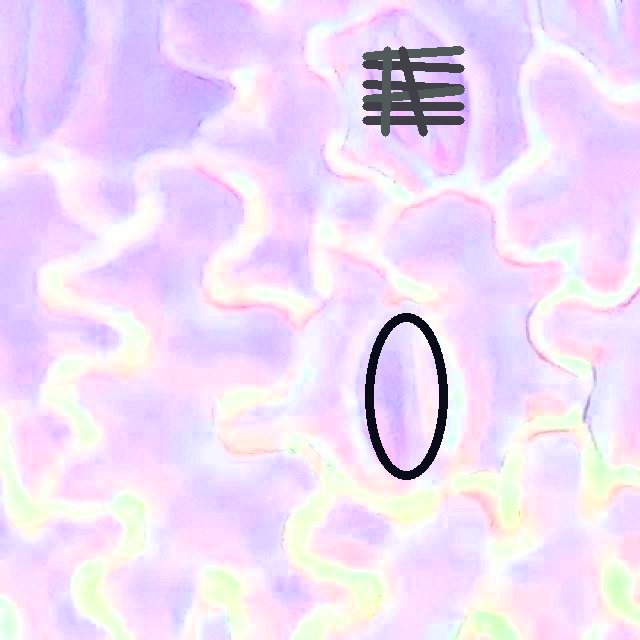open: (363, 313, 448, 479), (363, 46, 463, 135)
